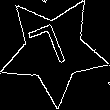L_S: (30, 22, 77, 79)
